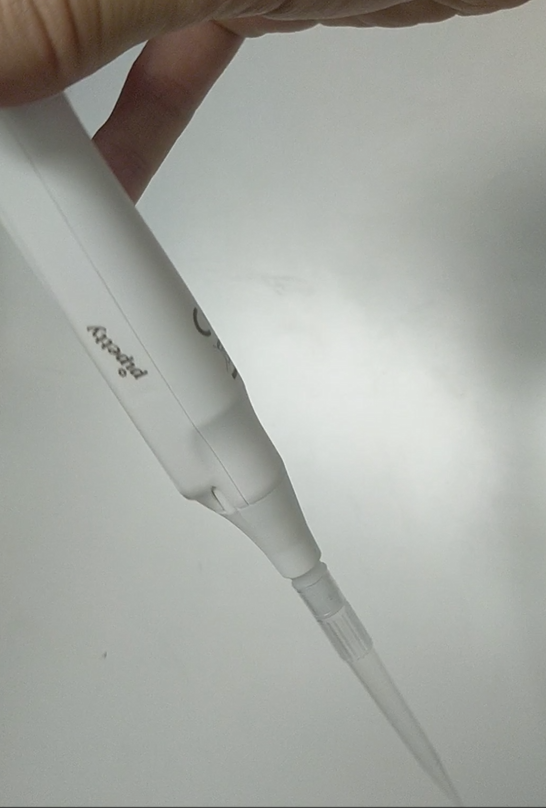pipette: (1, 50, 339, 583)
